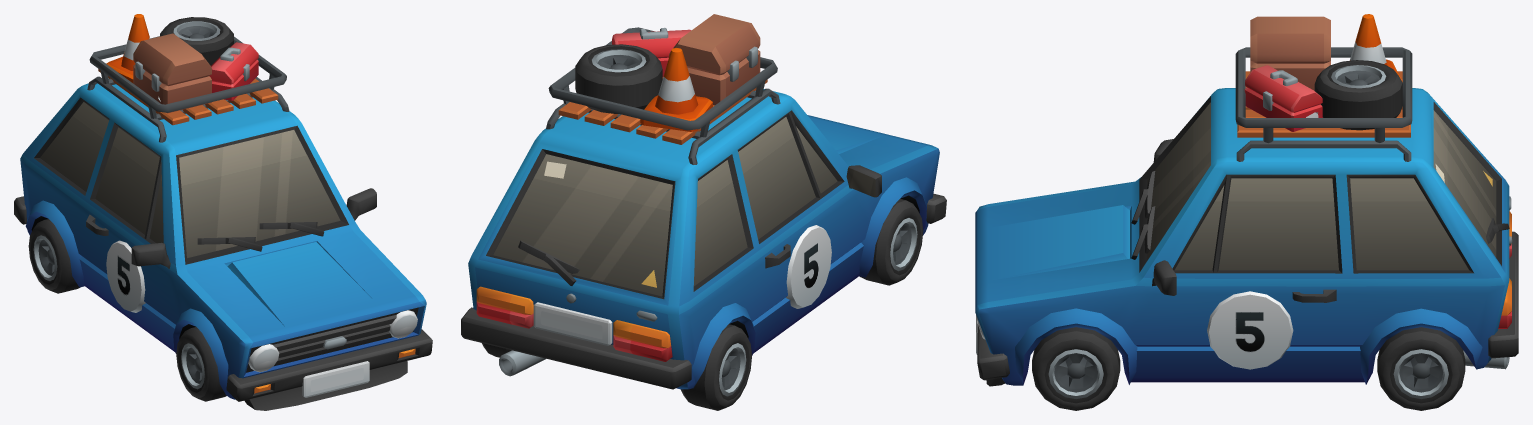
Rendered from car.glb.
3 renders of one model, left to right at view 1: azimuth 30°, elevation 25°; view 2: azimuth 150°, elevation 25°; view 3: azimuth 270°, elevation 25°, orthographic. The views are drawn at different scales.
Parts seen in each view (by area): view 1: car, roofrack_decorated, car_bumper_front, wheel_rear_right, wheel_front_right, car_racenumber, car_bumper_frontlip, car_licenseplate_front; view 2: car, roofrack_decorated, car_bumper_rear, wheel_rear_right, wheel_front_right, car_racenumber, car_bumper_front; view 3: car, roofrack_decorated, wheel_rear_left, wheel_front_left, car_racenumber, car_bumper_rear, car_bumper_front.
Boxes of the visible parts, <box> form: car: <box>20,78,426,399</box>; roofrack_decorated: <box>87,14,289,142</box>; car_bumper_front: <box>226,329,432,401</box>; wheel_rear_right: <box>28,219,80,293</box>; wheel_front_right: <box>176,327,226,401</box>; car_racenumber: <box>106,240,145,312</box>; car_bumper_frontlip: <box>244,361,407,410</box>; car_licenseplate_front: <box>302,361,369,397</box>; car: <box>468,89,939,389</box>; roofrack_decorated: <box>546,14,780,164</box>; car_bumper_rear: <box>461,307,691,389</box>; wheel_rear_right: <box>680,324,751,410</box>; wheel_front_right: <box>859,199,923,285</box>; car_racenumber: <box>786,225,831,308</box>; car_bumper_front: <box>926,193,946,223</box>; car: <box>975,88,1512,385</box>; roofrack_decorated: <box>1235,14,1412,161</box>; wheel_rear_left: <box>1377,327,1465,410</box>; wheel_front_left: <box>1032,327,1120,410</box>; car_racenumber: <box>1207,291,1293,369</box>; car_bumper_rear: <box>1488,231,1518,358</box>; car_bumper_front: <box>977,323,1009,380</box>.
Size of the model in its own units: 2.93 by 3.2 by 4.87.
Materials: 2 (2 with a texture image).
